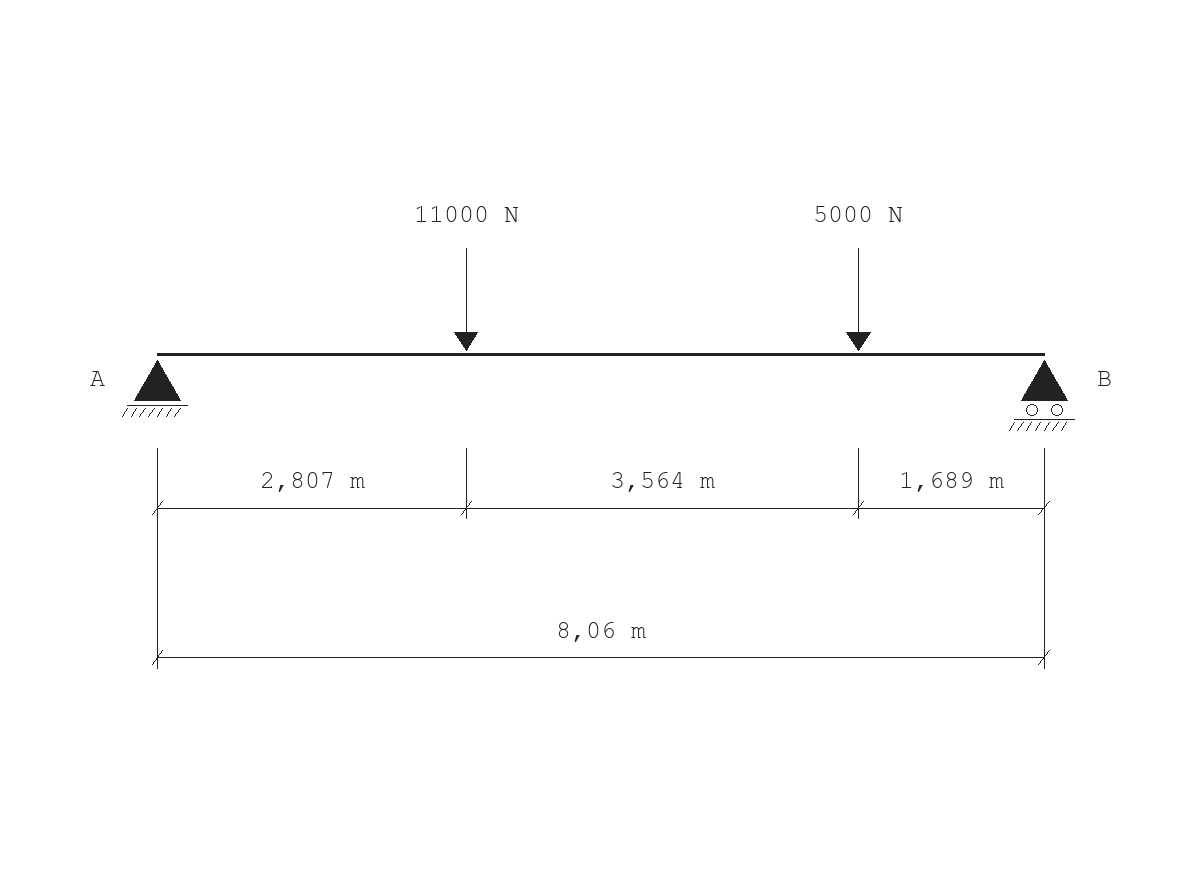pin_support: (122, 360, 188, 417)
point_load: (846, 248, 871, 351), (454, 248, 478, 351)
roller_support: (1009, 360, 1075, 431)
